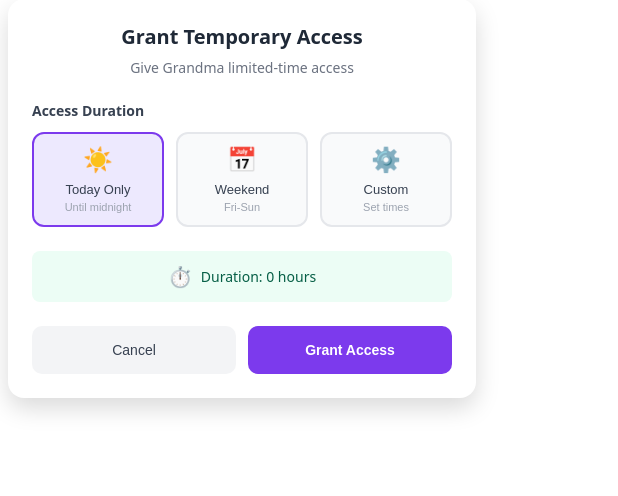
Test: TemporaryAccessGrantForm › Custom Date Selection (AC1) › hides custom date inputs when non-custom preset selected
Click the button with test id "preset-custom" at (386, 180), box [320,132,452,227]
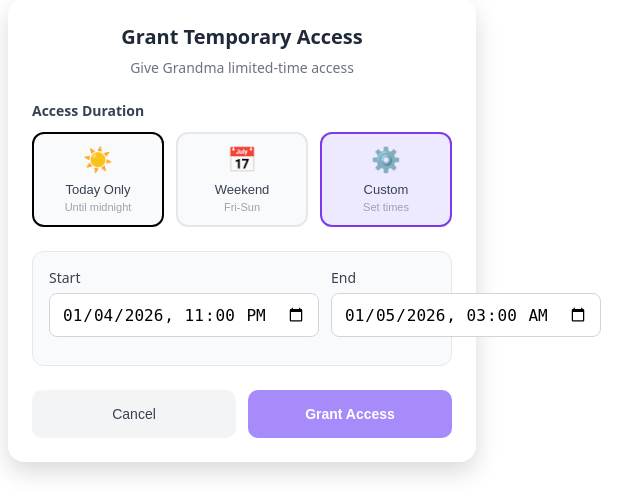
Now the element with test id "custom-date-section" is shown, box [32,251,452,366]
Click the button with test id "preset-today_only" at (98, 180), box [32,132,164,227]
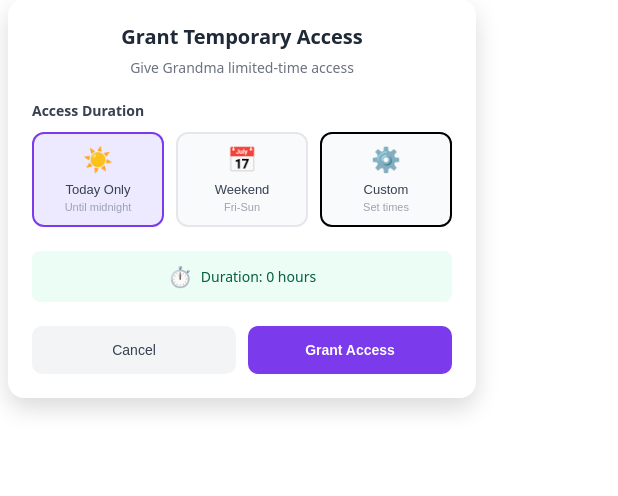
Now the element with test id "custom-date-section" is gone
